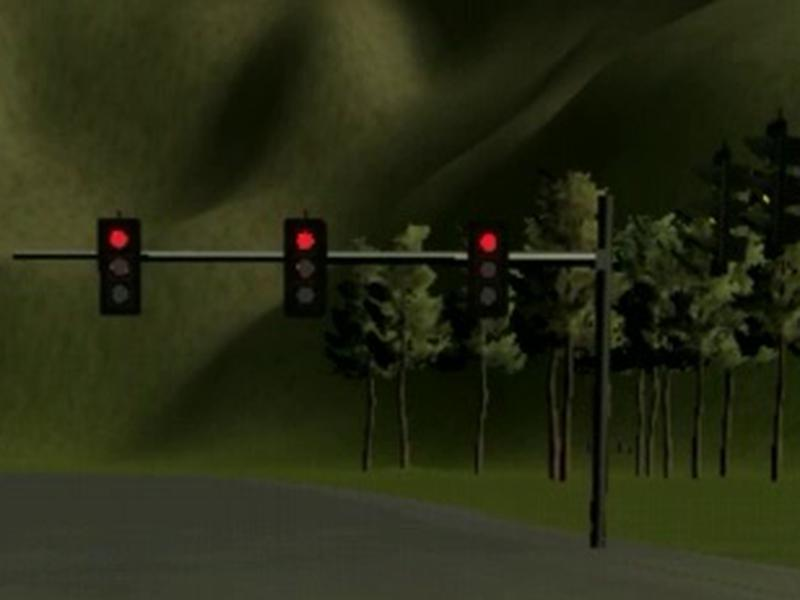Red: (96, 217, 144, 316), (283, 217, 325, 317), (466, 222, 509, 318)
